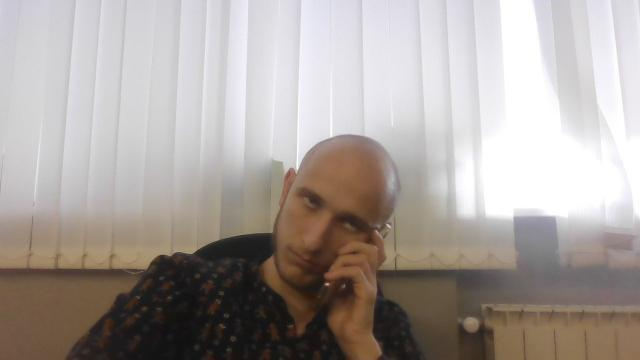PhoneUse: (307, 222, 395, 308)
